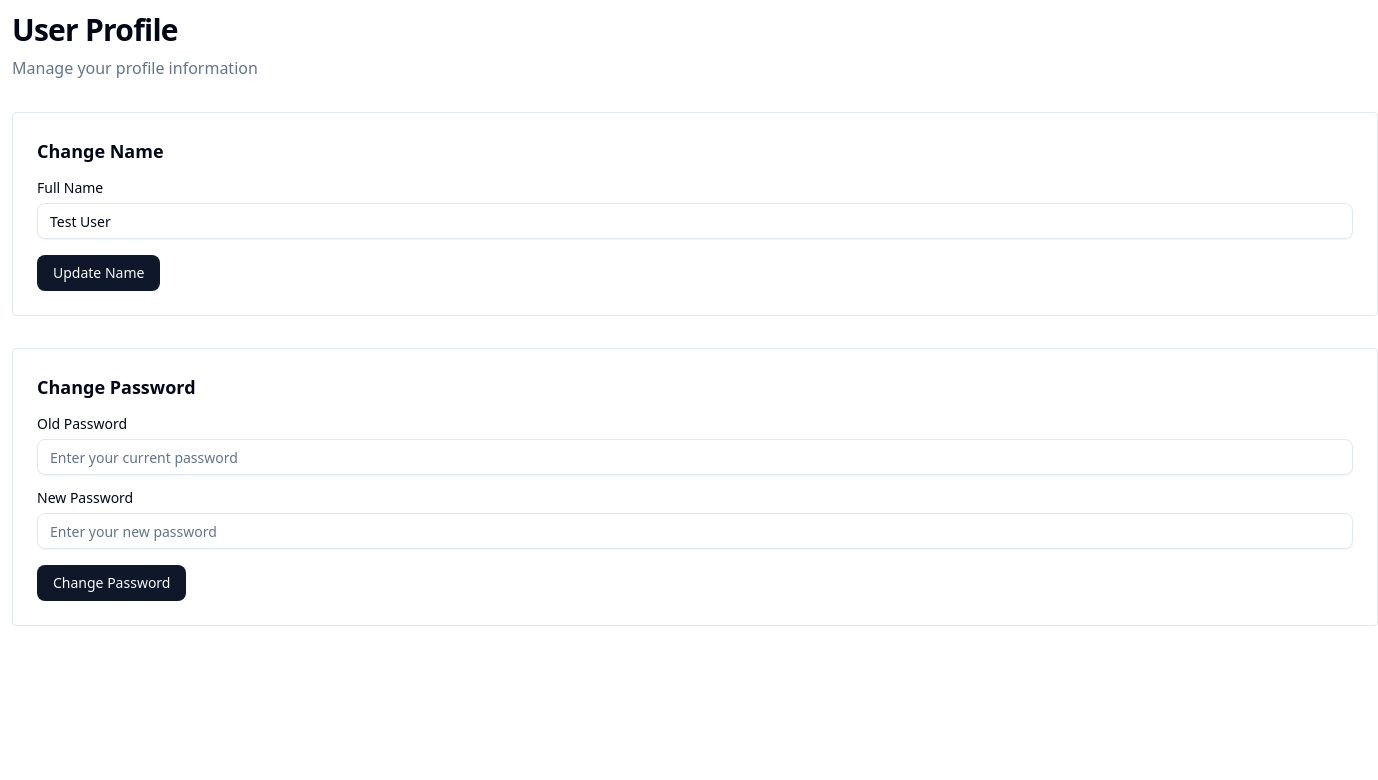
ProfilePage › shows validation error if name is too short
Replace the text in the field labelled "Full Name" with "A" at [695, 221], box [37,203,1353,239]
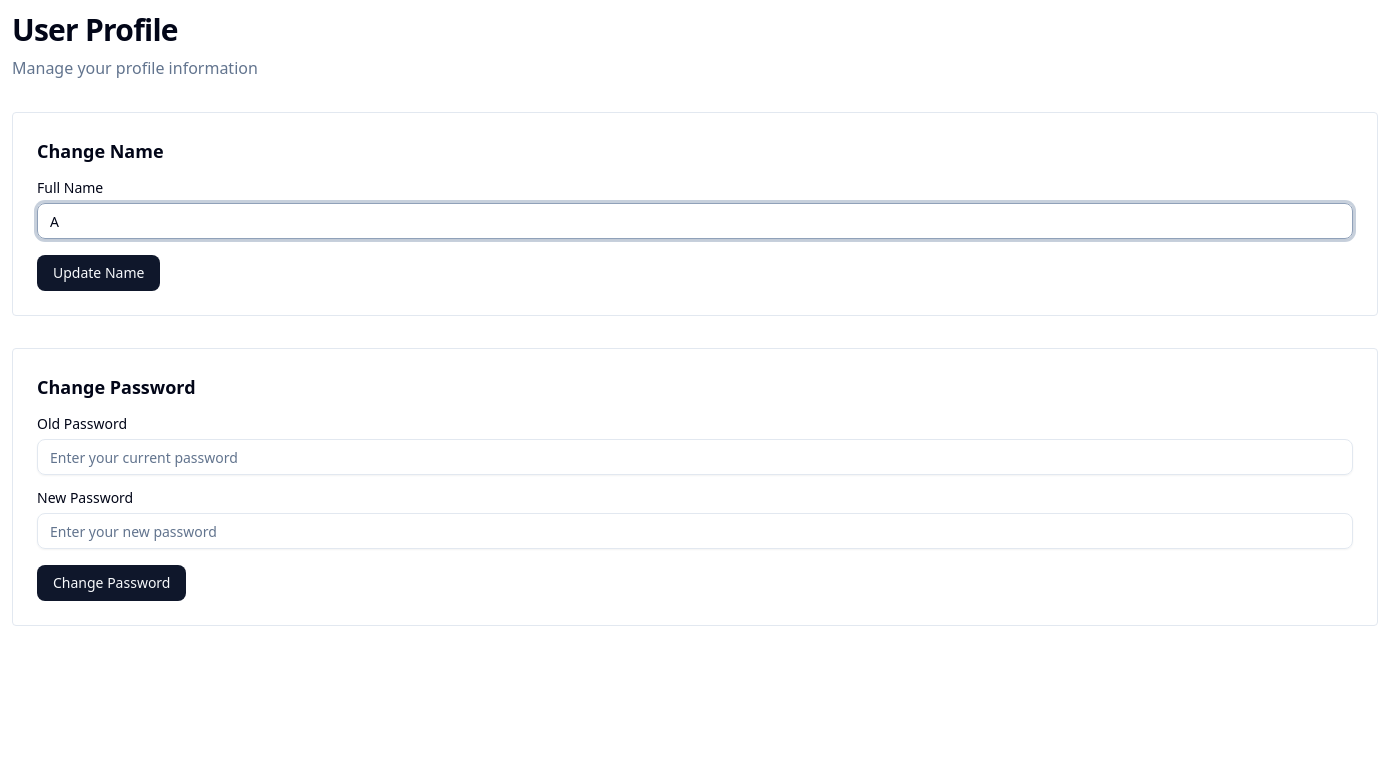
Click the button "Update Name" at [99, 273], box [37,255,160,291]
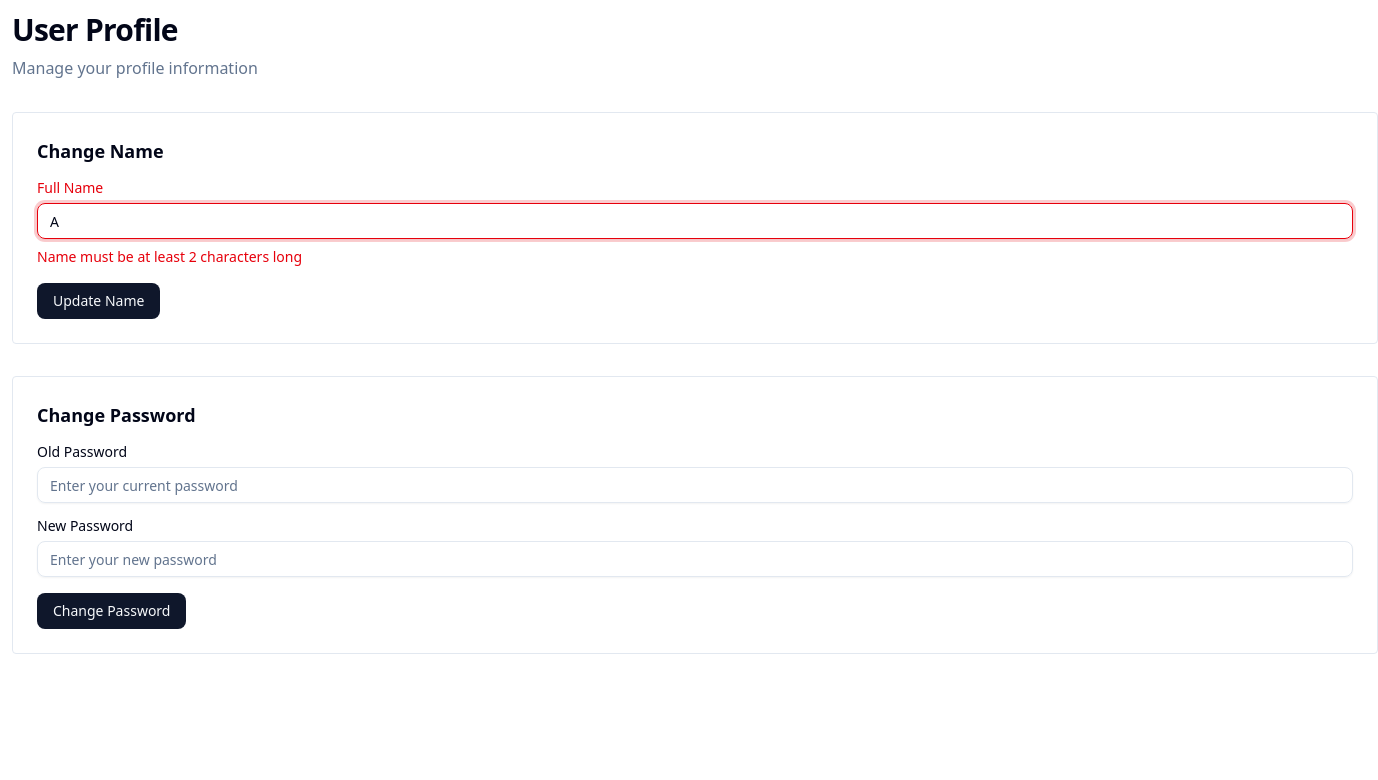
Result: the text "Name must be at least 2 characters long" is shown at [37,247,302,266]
